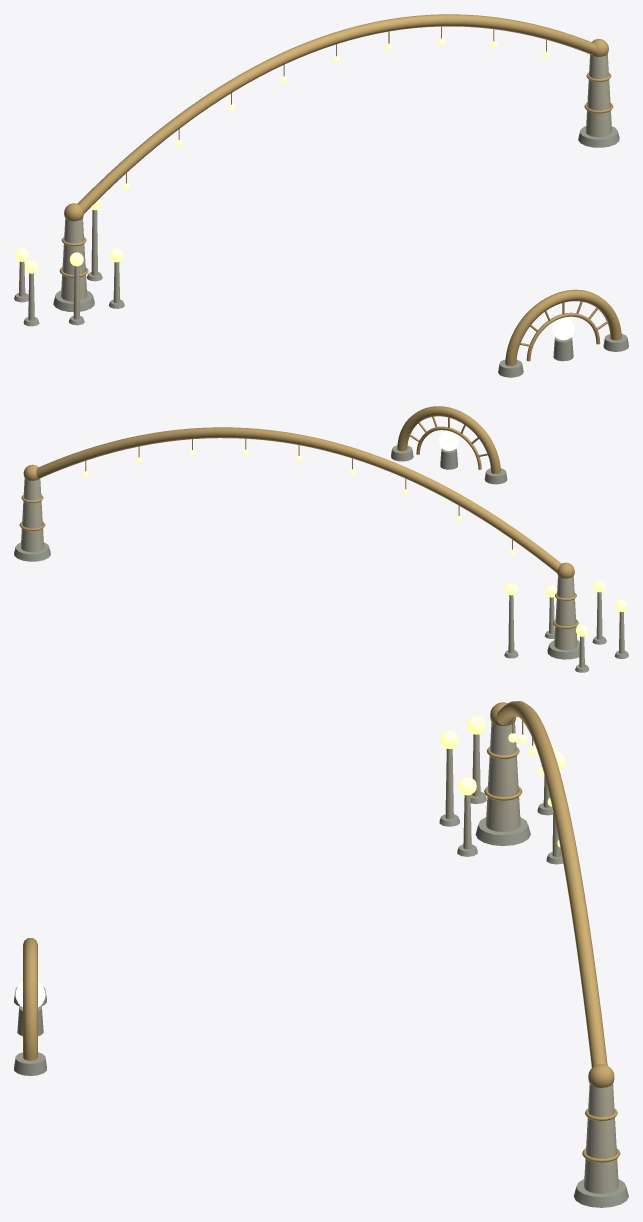
The model's file is landmark-r4-fermata-bridge.glb.
The picture shows the model from 3 angles, top to bottom: view 1: azimuth 30°, elevation 25°; view 2: azimuth 150°, elevation 25°; view 3: azimuth 270°, elevation 25°; orthographic projection. The views are drawn at different scales.
Visible parts, largest first — view 1: Static_Aged_brass, Static_Warm_limestone, Static_Limestone_shadow, Lantern_dots; view 2: Static_Aged_brass, Static_Warm_limestone, Static_Limestone_shadow, Lantern_dots; view 3: Static_Aged_brass, Static_Warm_limestone, Static_Limestone_shadow, Lantern_dots.
Boxes of the visible parts, <box> form: Static_Aged_brass: <box>59,14,621,365</box>; Static_Warm_limestone: <box>18,54,611,320</box>; Static_Limestone_shadow: <box>14,126,628,377</box>; Lantern_dots: <box>15,38,549,273</box>; Static_Aged_brass: <box>19,406,578,628</box>; Static_Warm_limestone: <box>21,478,624,667</box>; Static_Limestone_shadow: <box>14,445,628,672</box>; Lantern_dots: <box>82,449,627,636</box>; Static_Aged_brass: <box>23,701,620,1162</box>; Static_Warm_limestone: <box>445,722,618,1193</box>; Static_Limestone_shadow: <box>14,791,628,1207</box>; Lantern_dots: <box>440,716,587,1028</box>.
Bounding box in the file's own units: 109 × 30.86 × 68.95.
